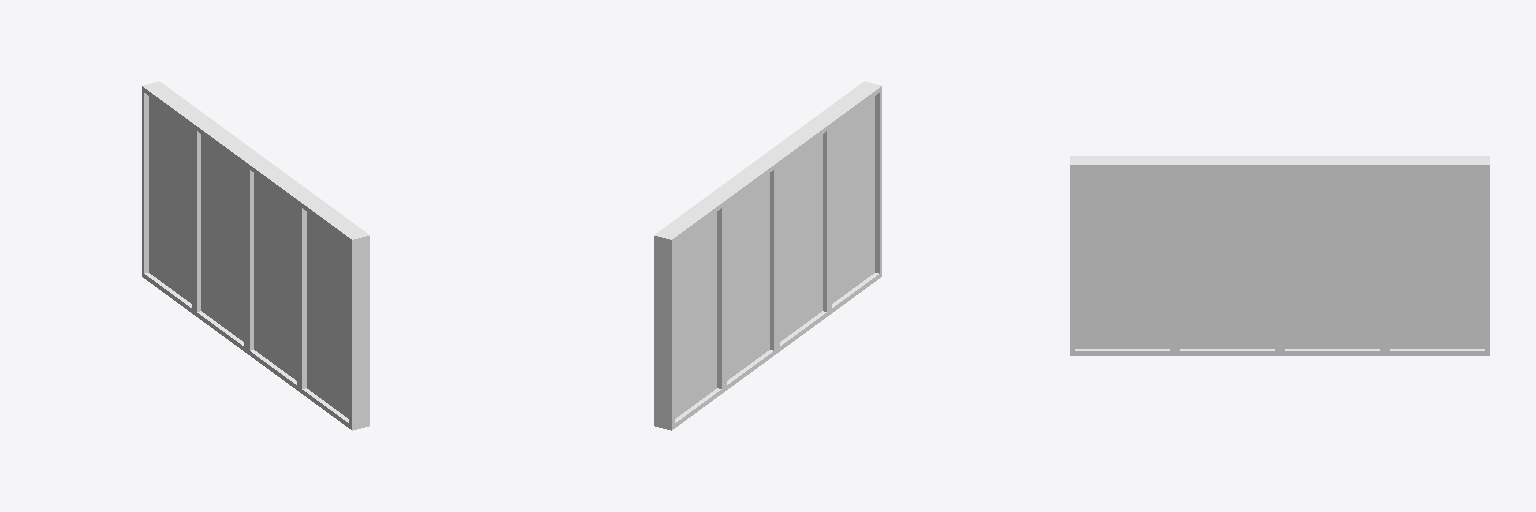
Rendered from Lounge Window.obj.
3 renders of one model, left to right at view 1: azimuth 30°, elevation 25°; view 2: azimuth 150°, elevation 25°; view 3: azimuth 270°, elevation 25°, orthographic.
Parts seen in each view (by area): view 1: object 1; view 2: object 1; view 3: object 1.
Boxes of the visible parts, box(x1,y1,x2,y2) form: object 1: box(142, 81, 369, 430); object 1: box(654, 81, 881, 430); object 1: box(1070, 156, 1489, 355).
Size of the model in its own units: 0.4 by 4 by 8.